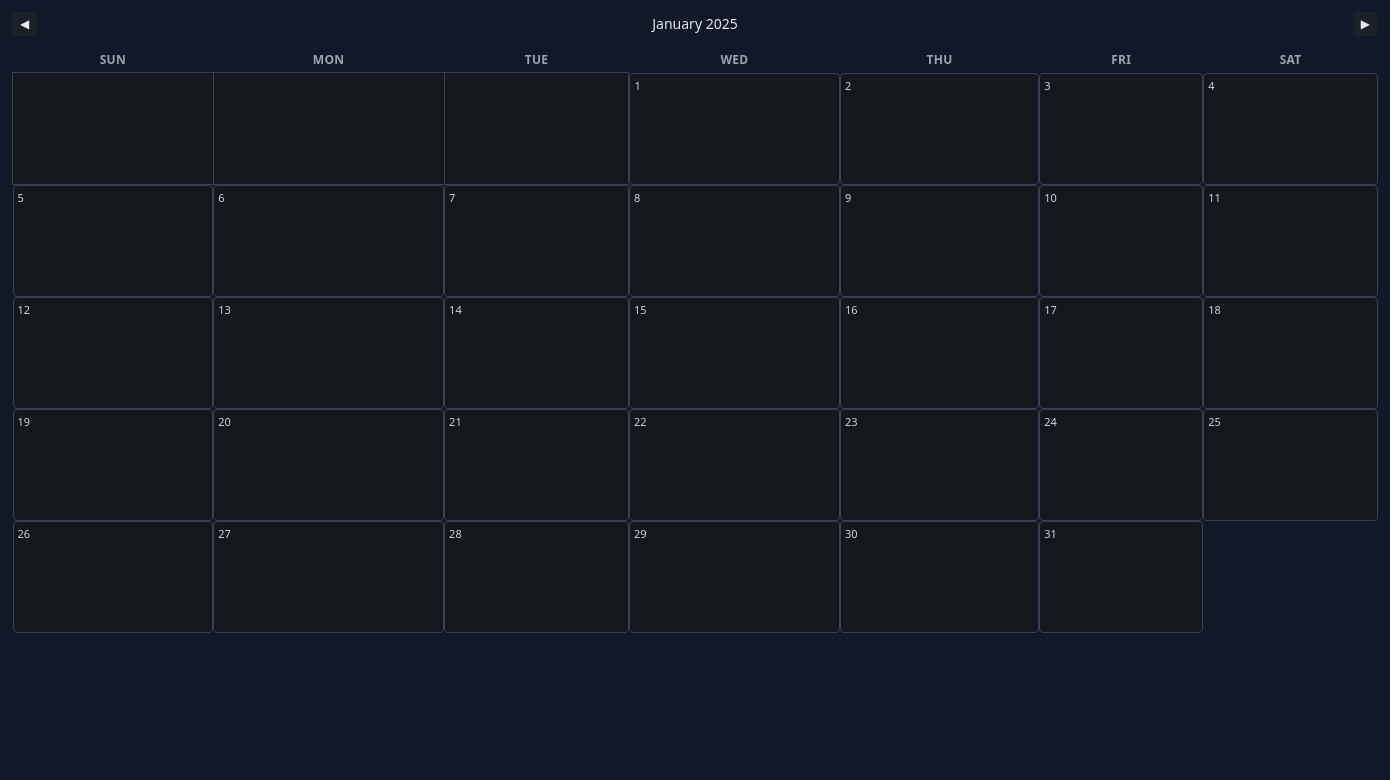
Test: MonthlyCalendar › navigates between months with prev/next buttons
Expected: the text named "Current month label" reads "January 2025", [652,14,738,33]
Go forward
Step 1. Click the button named "Next month" → (1365, 24), box [1353,12,1378,36]
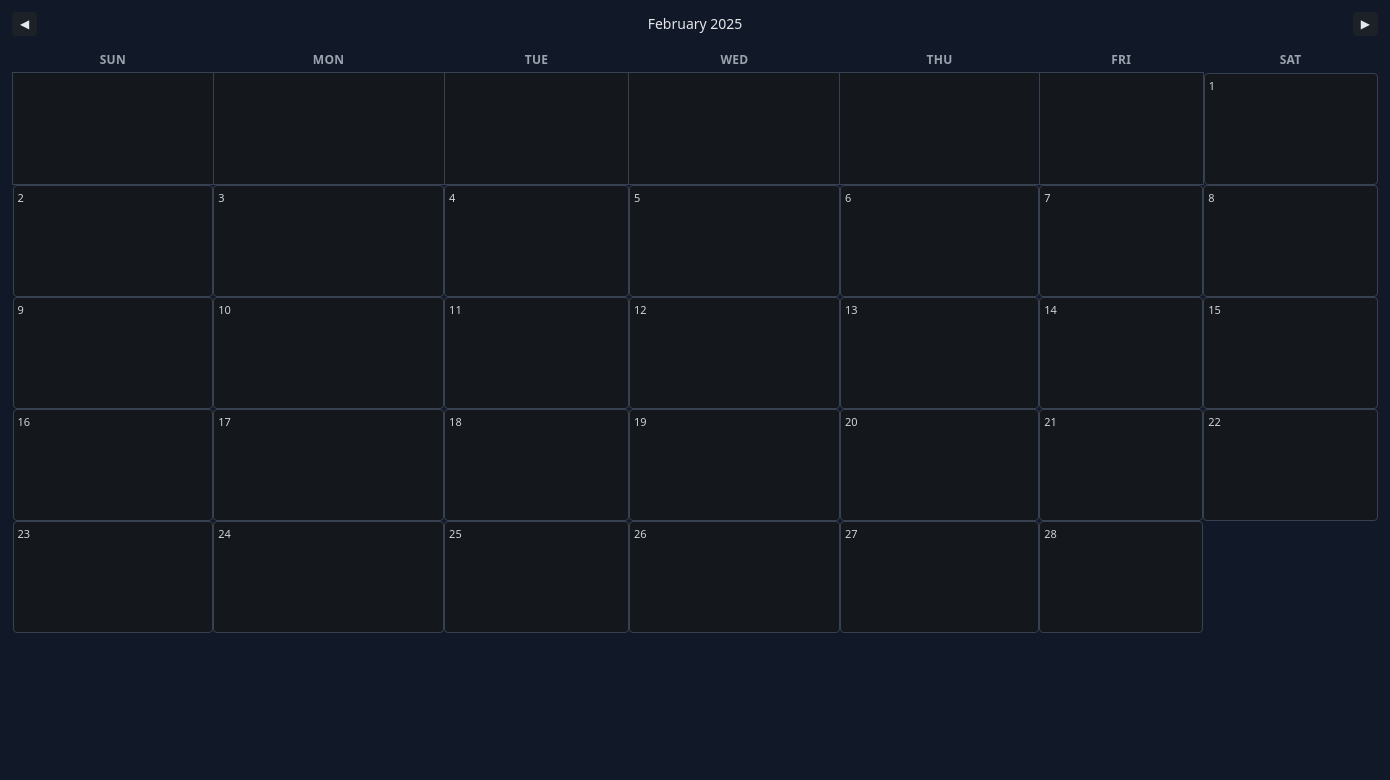
Expected: the text named "Current month label" reads "February 2025", [648,14,742,33]
 Go back
Step 2. Click the button named "Previous month" → (25, 24), box [12,12,37,36]
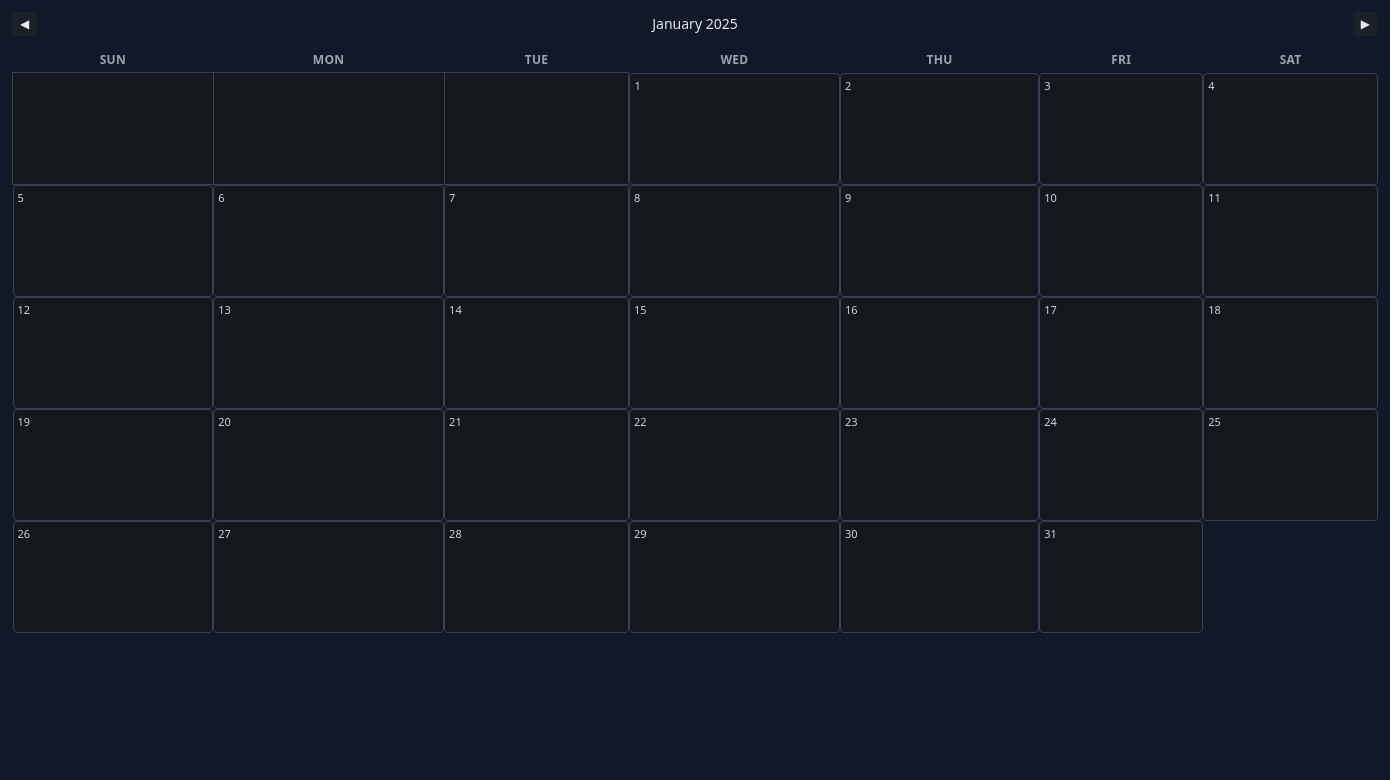
Expected: the text named "Current month label" reads "January 2025", [652,14,738,33]
Go back from January to previous year December
Step 3. Click the button named "Previous month" → (25, 24), box [12,12,37,36]
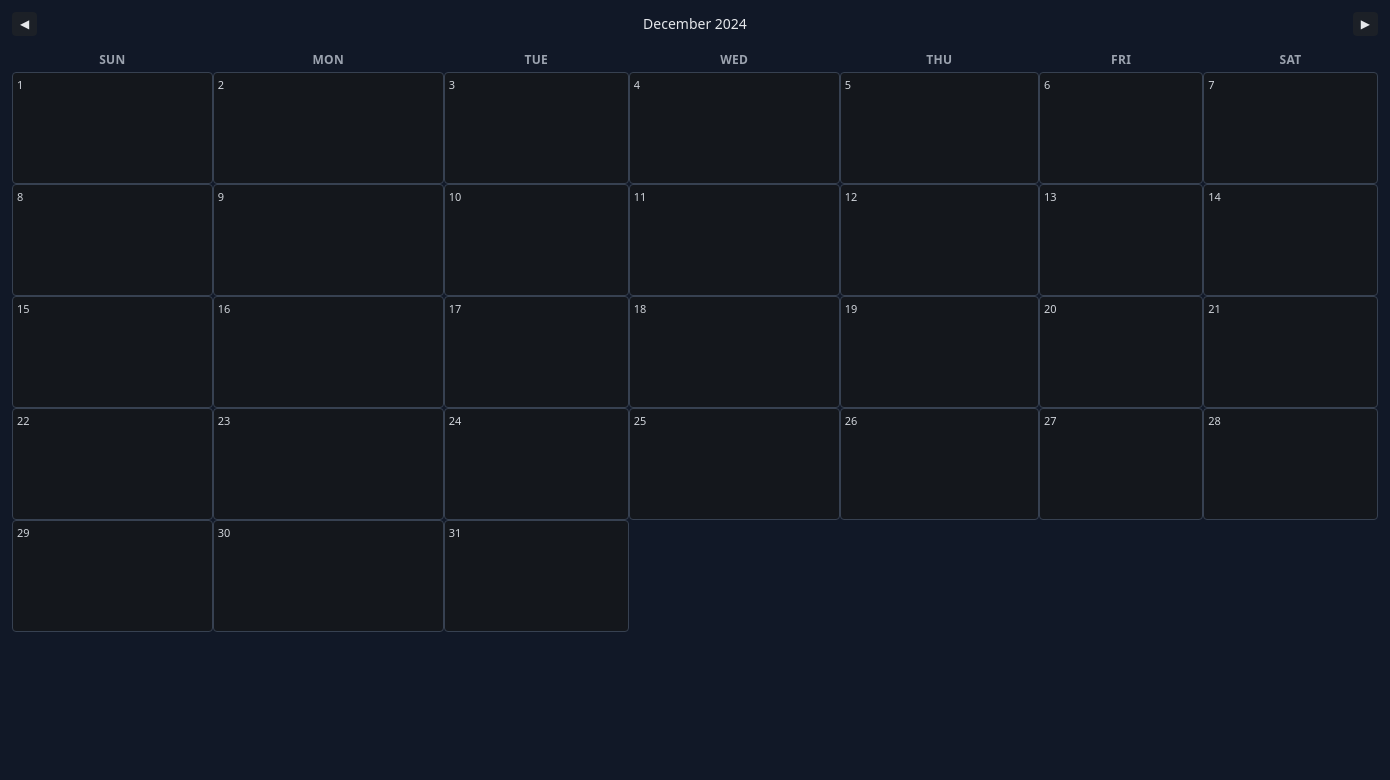
Expected: the text named "Current month label" reads "December 2024", [643,14,747,33]
